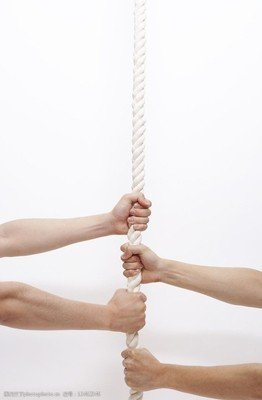9/可回收垃圾/绳子: (131, 1, 147, 197), (126, 225, 143, 245), (127, 271, 142, 292), (125, 332, 139, 349), (128, 387, 144, 400)
